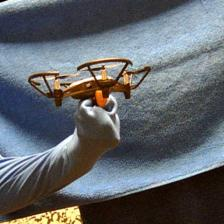drone: (28, 55, 152, 109)
